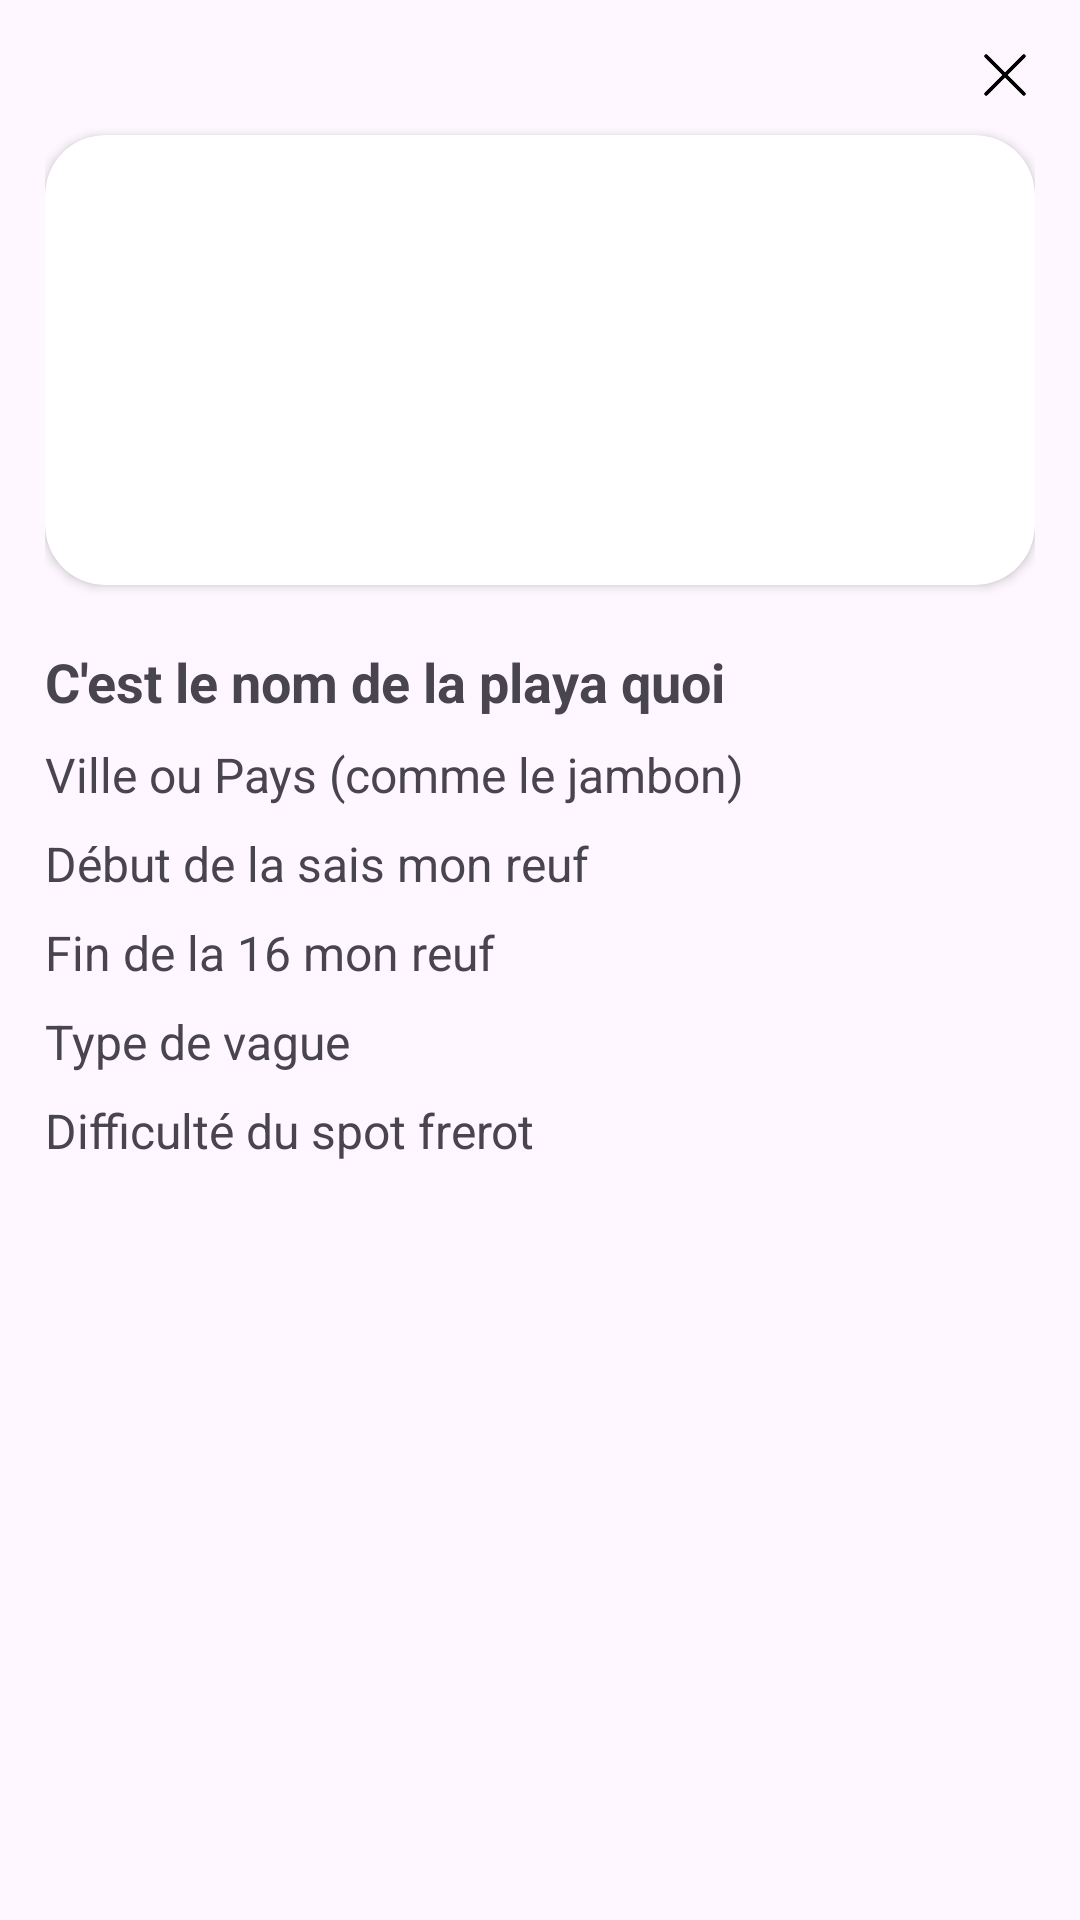

Locate icon controls on the screen. Image size 1080x1920, boxes as (x1, y1, x2, y2).
croix: (984, 54, 1026, 96)
